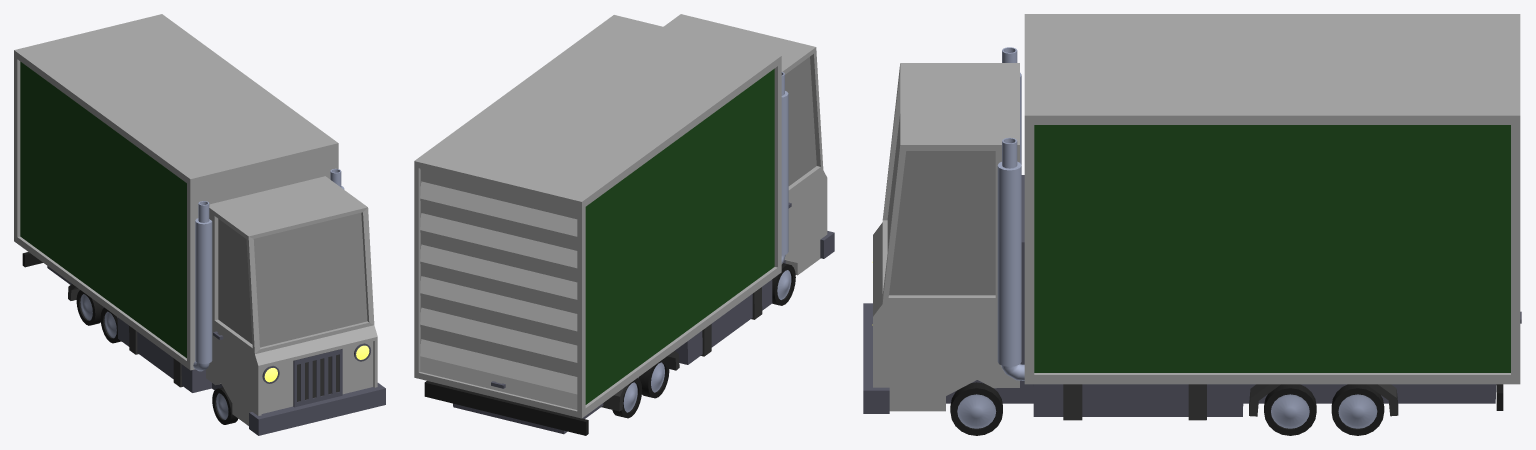
Rendered from truck.fbx.
3 renders of one model, left to right at view 1: azimuth 30°, elevation 25°; view 2: azimuth 150°, elevation 25°; view 3: azimuth 270°, elevation 25°, orthographic. The views are drawn at different scales.
Parts seen in each view (by area): view 1: Cube.001, Cube, Cylinder, bumper_front.001, grill.001, Cube.003, wheel_backleft.009, wheel_backleft.005, wheel_backleft.007; view 2: Cube.001, Plane, Cube, Cube.003, Cube.002, Cylinder, wheel_backleft.007, wheel_backleft.005, wheel_backleft.009, Cylinder.002; view 3: Cube.001, Cube, Cube.003, Cylinder.001, wheel_backleft.004, wheel_backleft.006, wheel_backleft.008, bumper_front.001, Cylinder.002.
Part boxes in pixels (left/top/right/bottom): Cube.001: left=14, top=14, right=338, bottom=370; Cube: left=206, top=176, right=377, bottom=425; Cylinder: left=193, top=201, right=212, bottom=371; bumper_front.001: left=249, top=383, right=385, bottom=435; grill.001: left=293, top=349, right=342, bottom=407; Cube.003: left=47, top=266, right=222, bottom=392; wheel_backleft.009: left=76, top=290, right=103, bottom=325; wheel_backleft.005: left=212, top=387, right=238, bottom=424; wheel_backleft.007: left=100, top=307, right=121, bottom=343; Cube.001: left=414, top=15, right=781, bottom=418; Plane: left=420, top=168, right=577, bottom=409; Cube: left=663, top=14, right=827, bottom=275; Cube.003: left=453, top=260, right=785, bottom=434; Cube.002: left=424, top=381, right=588, bottom=435; Cylinder: left=781, top=72, right=788, bottom=264; wheel_backleft.007: left=639, top=358, right=669, bottom=398; wheel_backleft.005: left=772, top=263, right=795, bottom=305; wheel_backleft.009: left=612, top=378, right=642, bottom=418; Cylinder.002: left=601, top=351, right=679, bottom=411; Cube.001: left=1024, top=14, right=1520, bottom=384; Cube: left=873, top=63, right=1019, bottom=411; Cube.003: left=946, top=175, right=1496, bottom=420; Cylinder.001: left=997, top=137, right=1024, bottom=380; wheel_backleft.004: left=950, top=382, right=1002, bottom=435; wheel_backleft.006: left=1264, top=384, right=1316, bottom=435; wheel_backleft.008: left=1331, top=384, right=1384, bottom=435; bumper_front.001: left=863, top=303, right=889, bottom=413; Cylinder.002: left=1249, top=384, right=1398, bottom=416.
Bounding box in the file's own units: 283 × 430 × 775.
